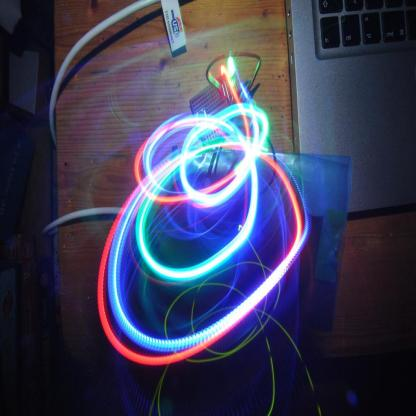board: (284, 0, 416, 224)
